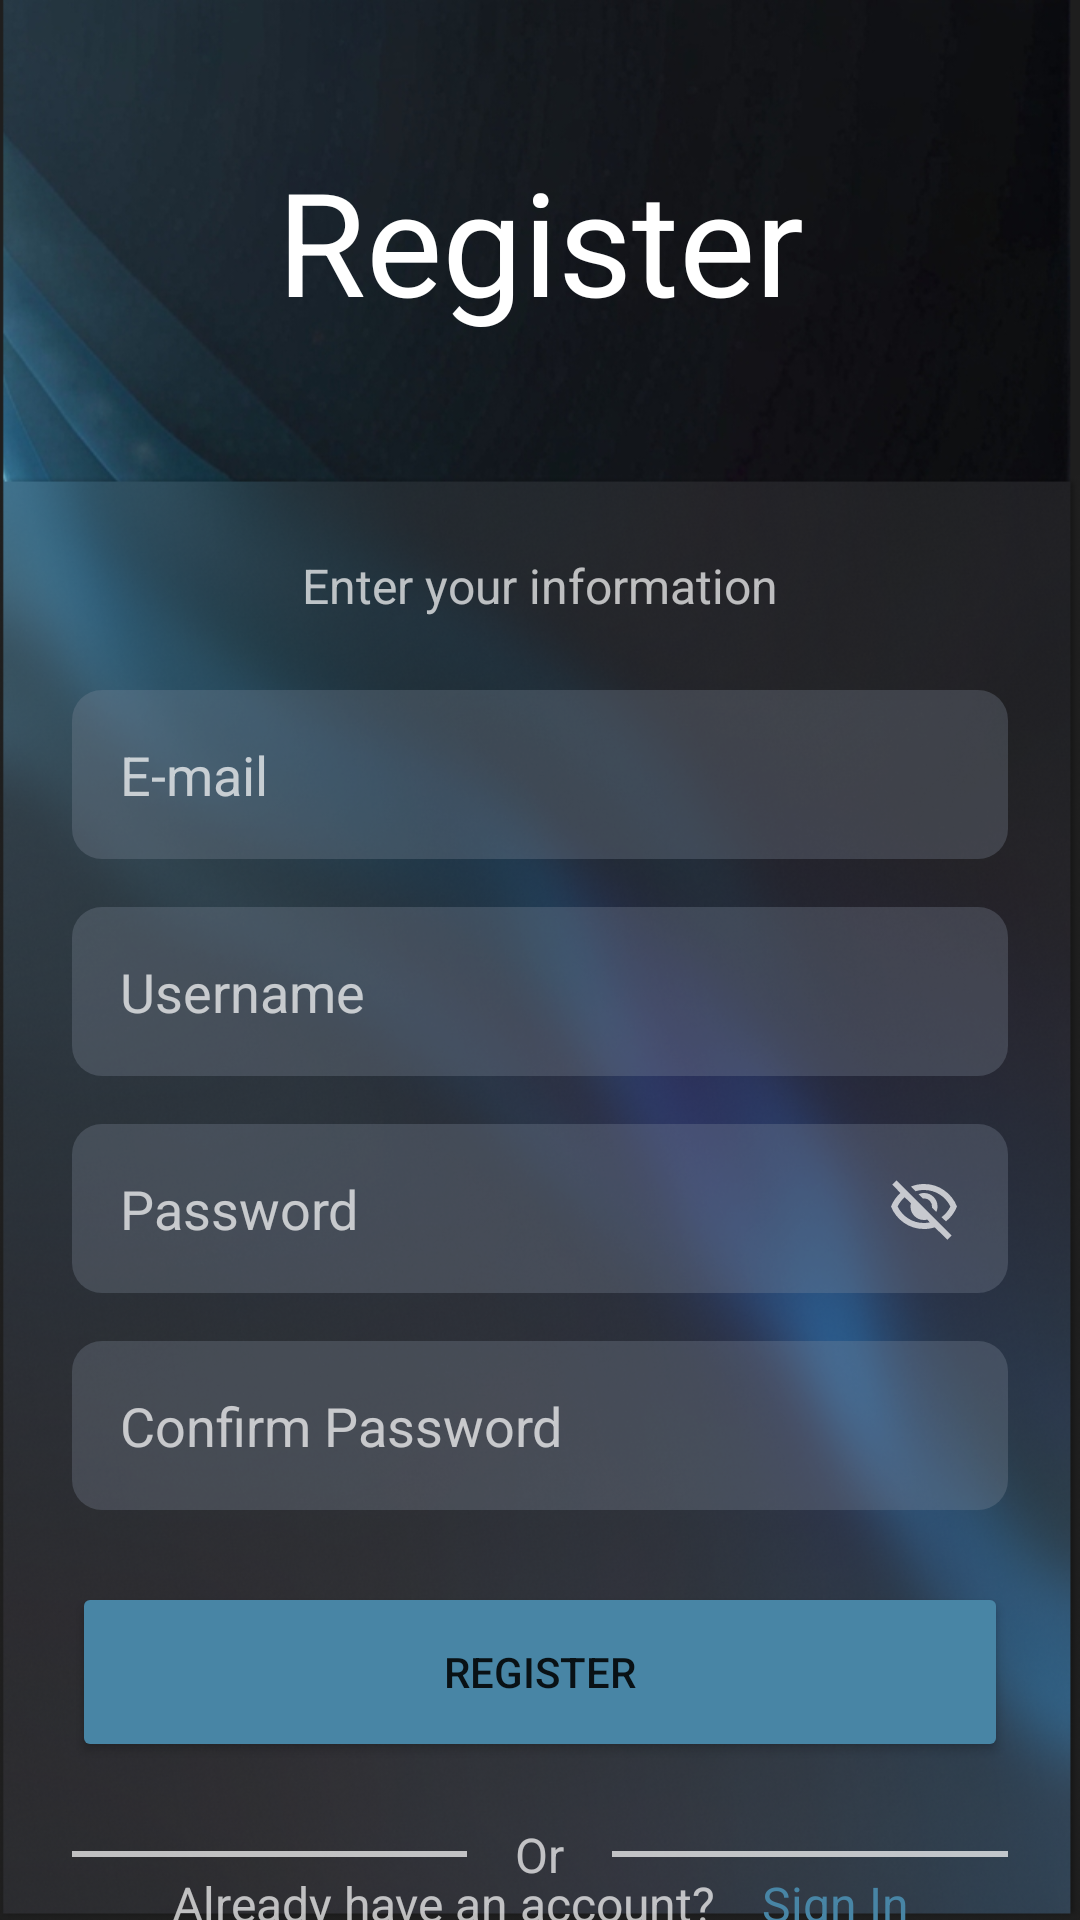

Screen size 1080 × 1920. Icon name, then its center in pixels as (x=x, y=y):
visibility off: (x=924, y=1210)
